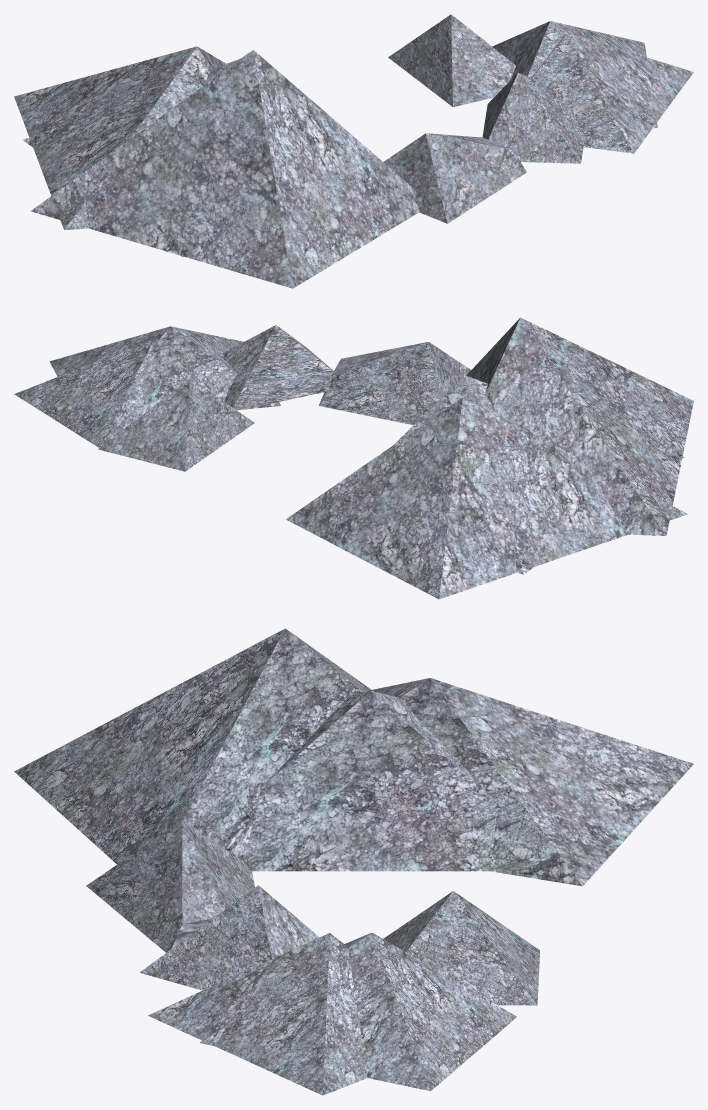
The model's file is EnvironmentMountains.glb.
3 views of the same model, one above another, from view 1: azimuth 30°, elevation 25°; view 2: azimuth 150°, elevation 25°; view 3: azimuth 270°, elevation 25° (orthographic). The views are drawn at different scales.
Parts seen in each view (by area): view 1: Cone.001; view 2: Cone.001; view 3: Cone.001.
Part boxes in pixels (box(x1,y1,x2,y2)): Cone.001: box(14, 14, 693, 288); Cone.001: box(14, 317, 693, 599); Cone.001: box(14, 628, 693, 1095).
Bounding box in the file's own units: 140 × 30.47 × 101.
1 material, 1 textured.
